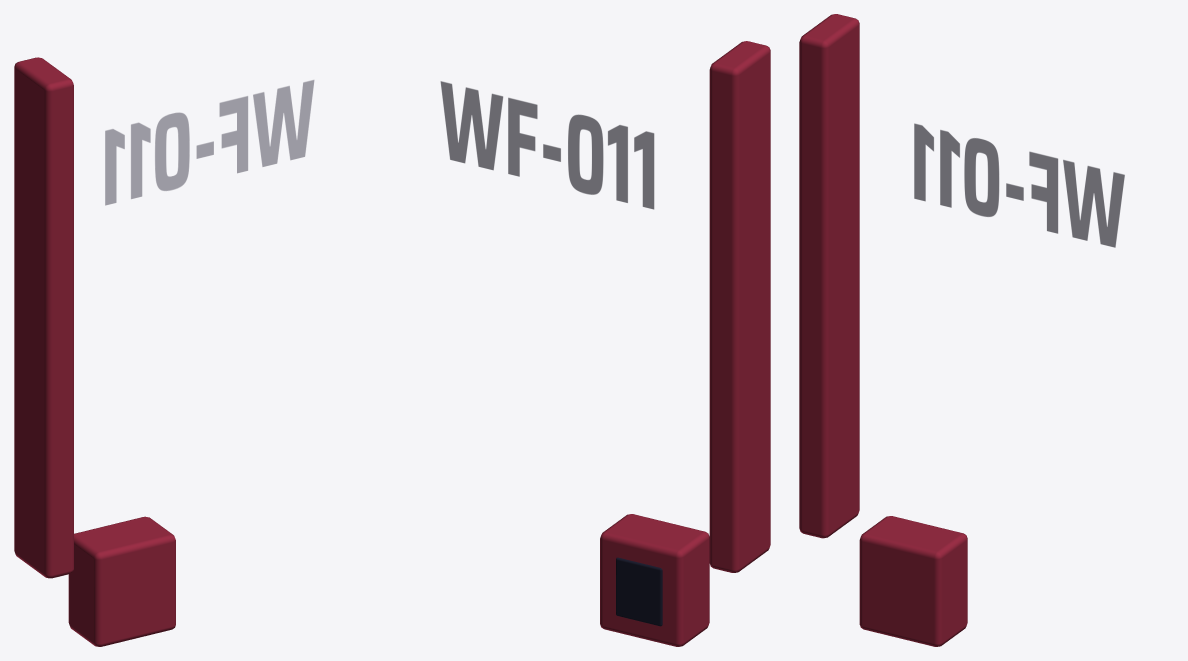
Rendered from LIVERY_wf011.glb.
The picture shows the model from 3 angles, left to right: view 1: azimuth 30°, elevation 25°; view 2: azimuth 150°, elevation 25°; view 3: azimuth 330°, elevation 25°; orthographic projection. The views are drawn at different scales.
Parts seen in each view (by area): view 1: LIVERY_wf011.001; view 2: LIVERY_wf011.001; view 3: LIVERY_wf011.001.
Part boxes in pixels (x1,y1,x2,y2): LIVERY_wf011.001: (14,57,314,646); LIVERY_wf011.001: (440,41,770,646); LIVERY_wf011.001: (799,14,1124,646).
Size of the model in its own units: 1.89 by 3.05 by 0.35.
Materials: 3 (1 with a texture image).
